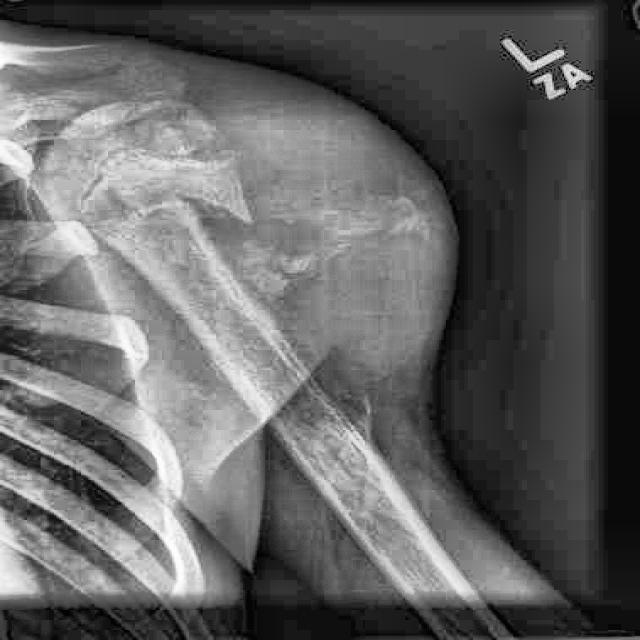shoulder fracture: (137, 146, 287, 257)
